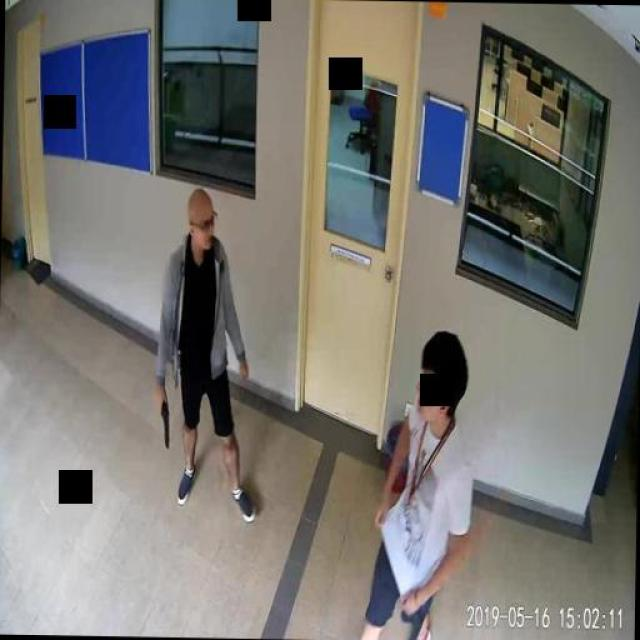gun: (156, 394, 169, 448)
